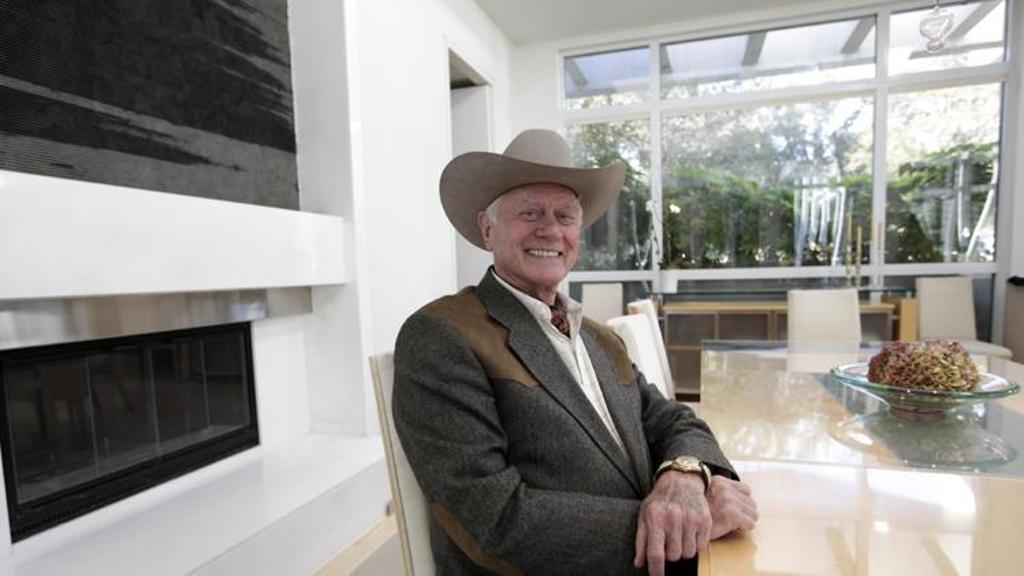face: (496, 180, 586, 284)
